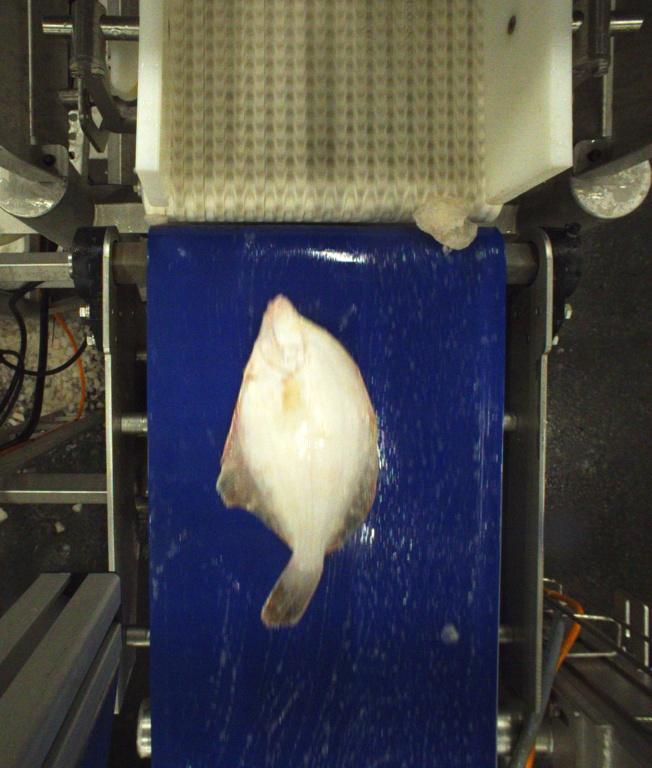PLE: (220, 293, 378, 634)
